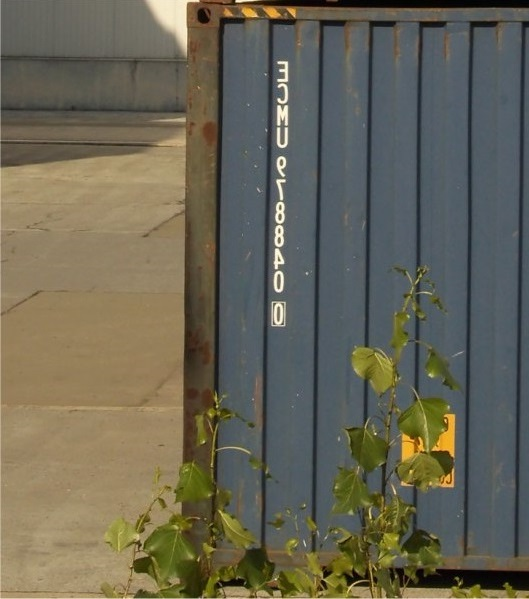container_no_door: (187, 4, 529, 587)
